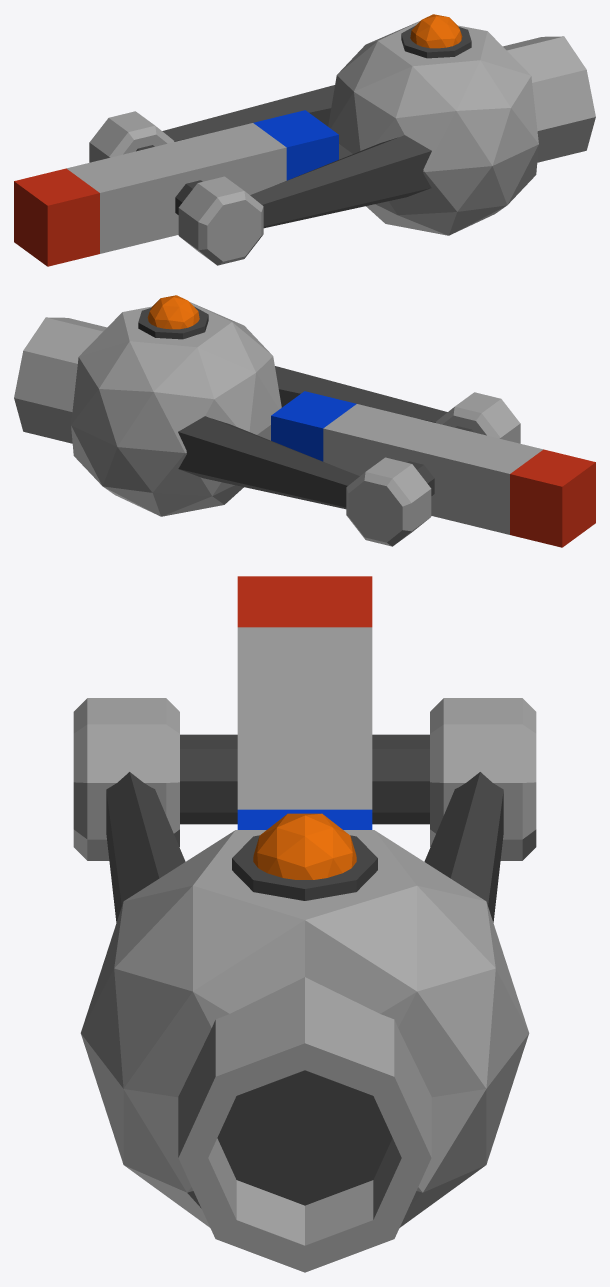
File: MagnetGun.fbx
The picture shows the model from 3 angles, top to bottom: view 1: azimuth 30°, elevation 25°; view 2: azimuth 150°, elevation 25°; view 3: azimuth 270°, elevation 25°; orthographic projection. The views are drawn at different scales.
Parts seen in each view (by area): view 1: Base, Magnet, Rod - Longs, Rod - cap, Base - Arm, Light - Light, Light - Base, Rod - base; view 2: Base, Magnet, Rod - Longs, Rod - cap, Base - Arm, Light - Light, Light - Base, Rod - base; view 3: Base, Base - Arm, Magnet, Rod - cap, Rod - Longs, Rod - base, Light - Light, Light - Base.
Part boxes in pixels (box(x1,y1,x2,y2)): Base: box(328, 21, 538, 235); Magnet: box(14, 110, 338, 266); Rod - Longs: box(162, 85, 431, 228); Rod - cap: box(89, 111, 263, 265); Base - Arm: box(503, 36, 595, 162); Light - Light: box(410, 14, 462, 48); Light - Base: box(401, 25, 471, 58); Rod - base: box(136, 145, 202, 214); Base: box(71, 302, 281, 516); Magnet: box(271, 391, 595, 547); Rod - Longs: box(178, 366, 447, 509); Rod - cap: box(346, 392, 520, 546); Base - Arm: box(14, 317, 106, 443); Light - Light: box(147, 295, 199, 329); Light - Base: box(138, 306, 208, 339); Rod - base: box(407, 426, 473, 495); Base: box(80, 830, 529, 1227); Base - Arm: box(178, 977, 431, 1272); Magnet: box(237, 576, 372, 829); Rod - cap: box(73, 698, 536, 860); Rod - Longs: box(106, 772, 503, 922); Rod - base: box(180, 734, 429, 824); Light - Light: box(253, 813, 356, 879); Light - Base: box(232, 835, 377, 900).
Bounding box in the file's own units: 549 × 207 × 206.
